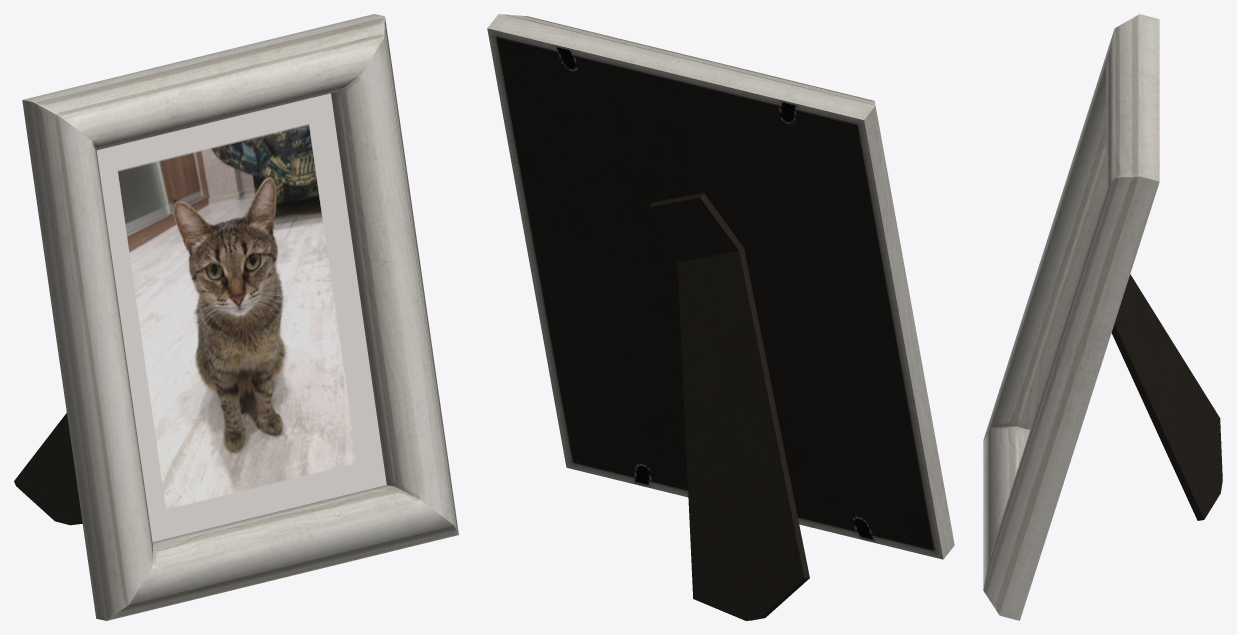
File: PhotoFrameF.FBX
3 views of the same model, side by side, from view 1: azimuth 30°, elevation 25°; view 2: azimuth 150°, elevation 25°; view 3: azimuth 270°, elevation 25° (orthographic). The views are drawn at different scales.
Visible parts, largest first — view 1: PhotoFrameF; view 2: PhotoFrameF; view 3: PhotoFrameF.
Boxes of the visible parts, x1,y1,x2,y2 form: PhotoFrameF: (14, 14, 458, 620); PhotoFrameF: (487, 14, 954, 620); PhotoFrameF: (983, 14, 1222, 620).
Size of the model in its own units: 6.3 by 8.05 by 3.93.
